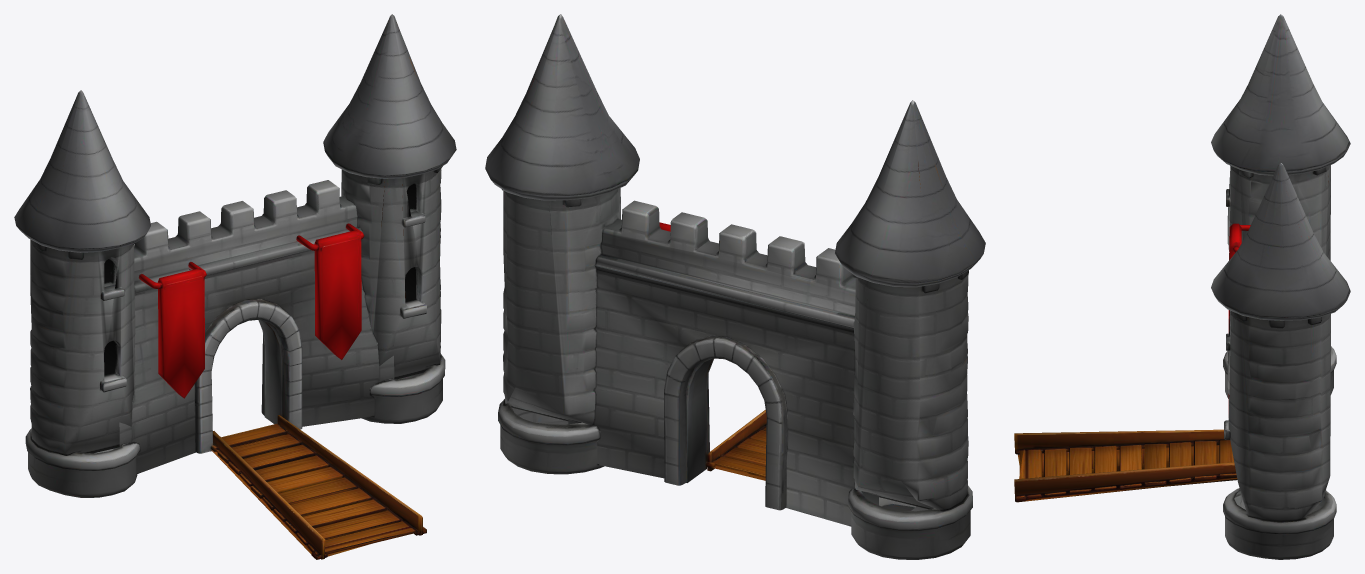
File: selected.glb
The picture shows the model from 3 angles, left to right: view 1: azimuth 30°, elevation 25°; view 2: azimuth 150°, elevation 25°; view 3: azimuth 270°, elevation 25°; orthographic projection. The views are drawn at different scales.
Visible parts, largest first — view 1: tripo_node_8d30a7d3-4eec-476f-b643-3d940eeb052c; view 2: tripo_node_8d30a7d3-4eec-476f-b643-3d940eeb052c; view 3: tripo_node_8d30a7d3-4eec-476f-b643-3d940eeb052c.
Part boxes in pixels (left/top/right/bottom): tripo_node_8d30a7d3-4eec-476f-b643-3d940eeb052c: left=14, top=14, right=456, bottom=559; tripo_node_8d30a7d3-4eec-476f-b643-3d940eeb052c: left=485, top=14, right=985, bottom=559; tripo_node_8d30a7d3-4eec-476f-b643-3d940eeb052c: left=1014, top=14, right=1350, bottom=559.
Bounding box in the file's own units: 0.998 × 0.8965 × 0.7051.
1 material, 1 textured.
